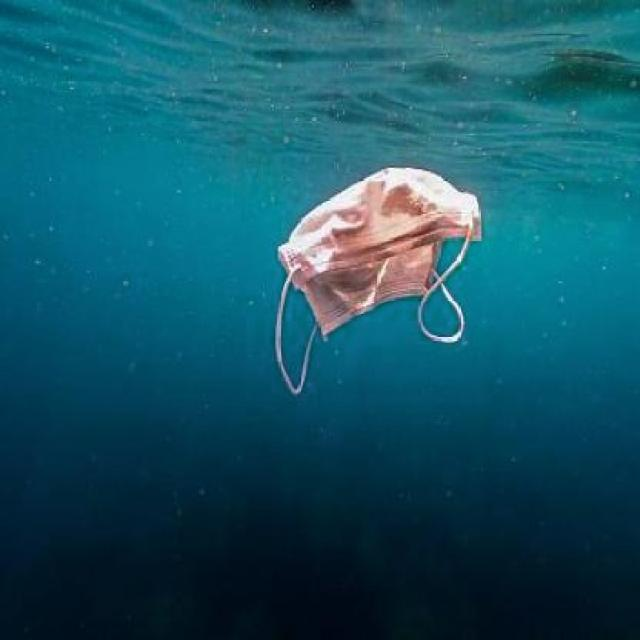Mask: (271, 159, 492, 403)
